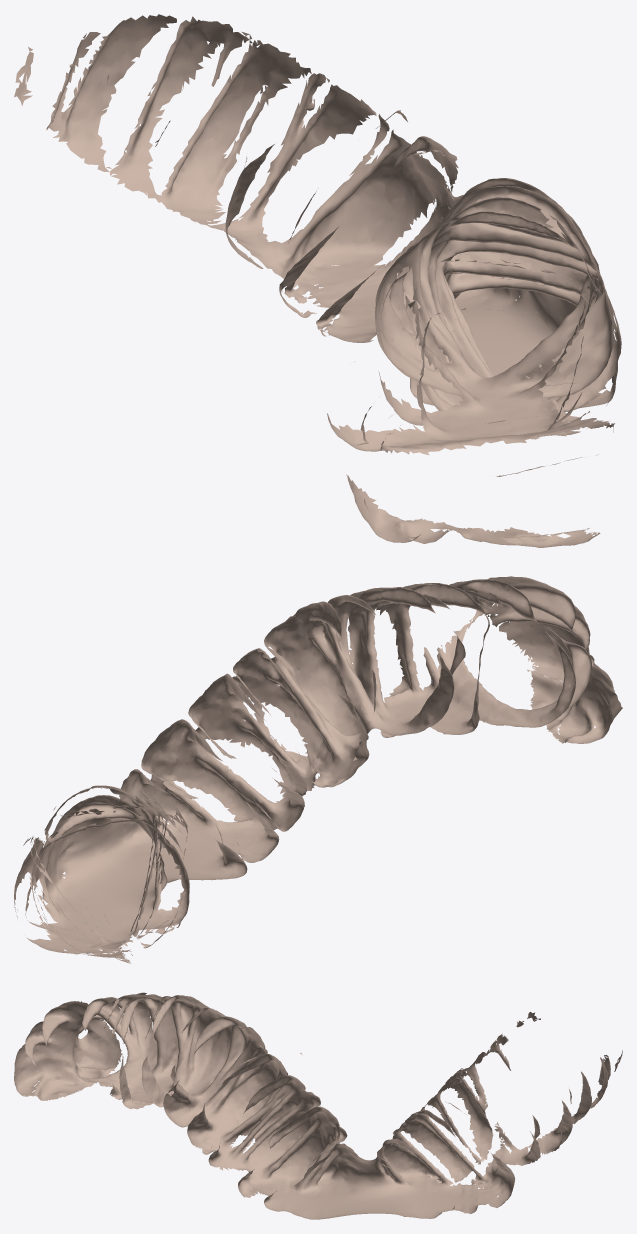
File: vrcaps_colon_17_gt.glb
3 renders of one model, top to bottom at view 1: azimuth 30°, elevation 25°; view 2: azimuth 150°, elevation 25°; view 3: azimuth 270°, elevation 25°, orthographic. The views are drawn at different scales.
Bounding box in the file's own units: 1.43 × 0.9035 × 3.09.
